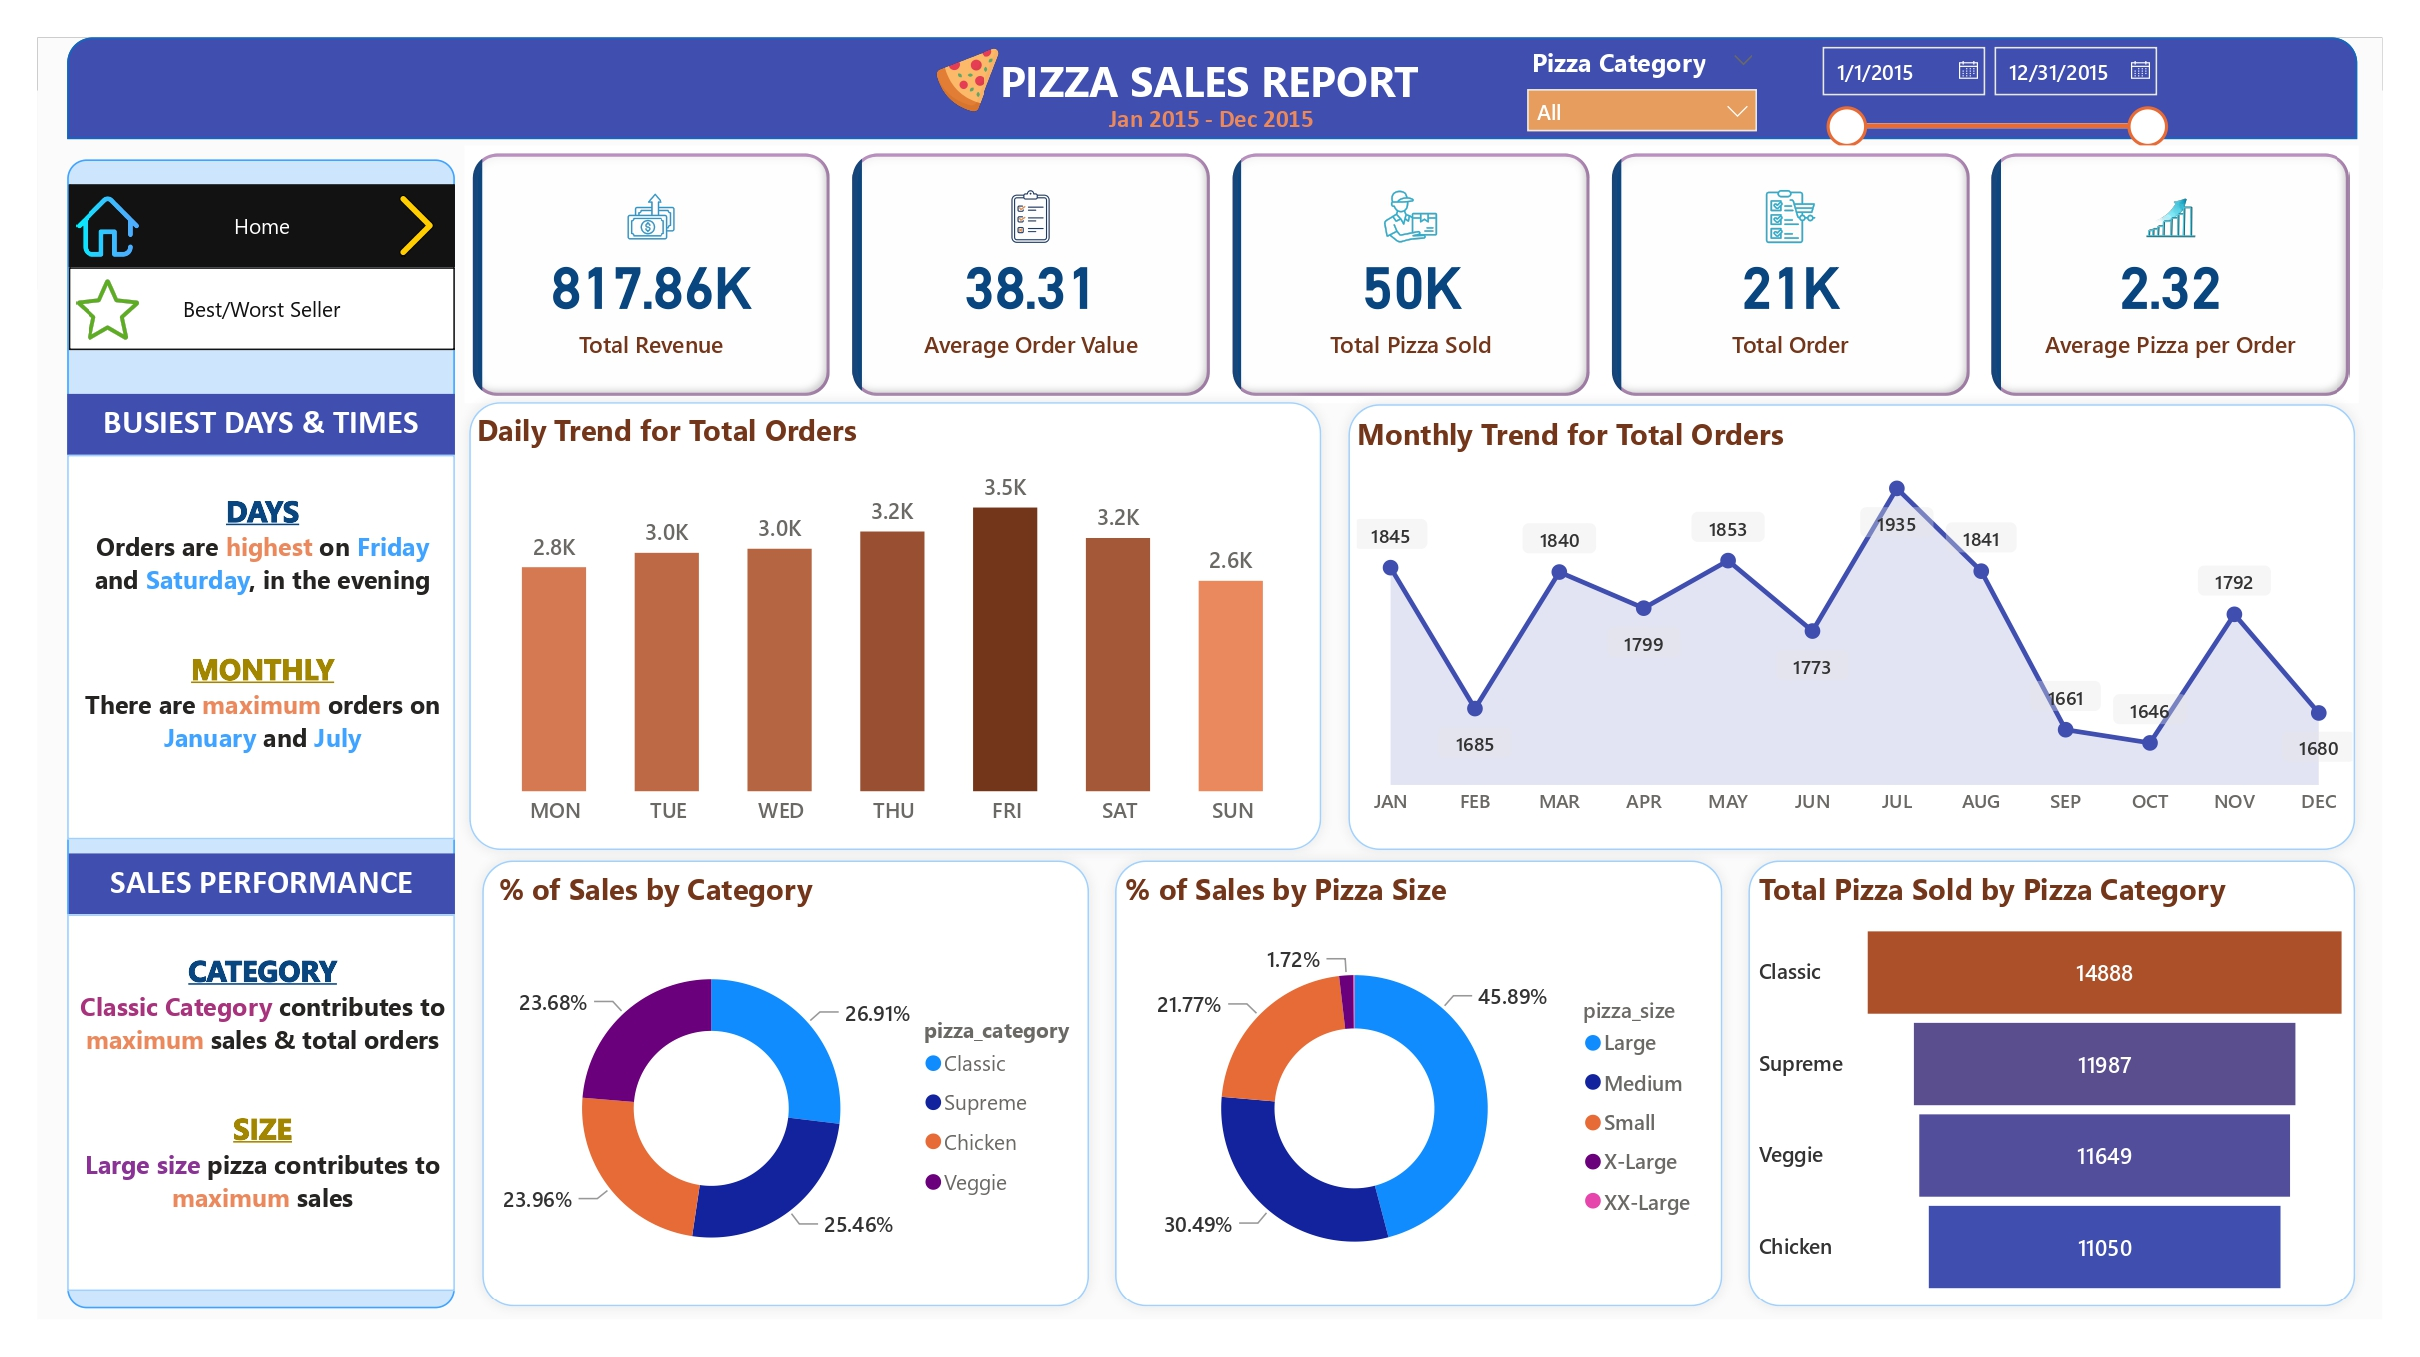

This screenshot's page, from the dashboard's own definition file:
{"tool":"powerbi","page":{"name":"Home","canvas":[1500,820],"ordinal":0},"visuals":[{"type":"cardVisual","fields":{"Data":["pizza_sales.Total Revenue","pizza_sales.Average Order Value","pizza_sales.Total Pizza Sold","pizza_sales.Total Order","pizza_sales.Average Pizza per Order"]},"box":[272.5,68.8,1212.5,165],"z":0},{"type":"shape","box":[19.5,0,1464.6,65.4],"z":1000},{"type":"textbox","box":[601.4,4.2,296.5,58.5],"z":2000},{"type":"textbox","box":[666.7,36.7,168.3,45],"z":3000},{"type":"image","box":[556.9,1.4,75.2,51.5],"z":4000},{"type":"shape","box":[267.5,225,561.2,302.5],"z":5000},{"type":"columnChart","title":"Daily Trend for Total Orders","fields":{"Category":["pizza_sales.Order Day"],"Y":["pizza_sales.Total Order"]},"box":[276.2,237.5,543.8,276.2],"z":6000},{"type":"shape","box":[830,225.6,661.1,302.2],"z":7000},{"type":"shape","box":[19.5,78,247.8,735.1],"z":8000},{"type":"areaChart","title":"Monthly Trend for Total Orders","fields":{"Category":["pizza_sales.Order Month"],"Y":["pizza_sales.Total Order"]},"box":[838.9,241.1,647.4,265.9],"z":9000},{"type":"shape","box":[275.7,517.9,405.1,302.1],"z":10000},{"type":"donutChart","title":"% of Sales by Category","fields":{"Y":["pizza_sales.Total Revenue"],"Category":["pizza_sales.pizza_category"]},"box":[289.6,531.8,391.2,281.2],"z":11000},{"type":"shape","box":[680.8,517.9,405.1,302.1],"z":12000},{"type":"shape","box":[1085.9,517.9,405.1,302.1],"z":13000},{"type":"donutChart","title":"% of Sales by Pizza Size","fields":{"Category":["pizza_sales.pizza_size"],"Y":["pizza_sales.Total Revenue"]},"box":[690.5,531.8,385.6,281.2],"z":14000},{"type":"funnel","title":"Total Pizza Sold by Pizza Category","fields":{"Y":["pizza_sales.Total Pizza Sold"],"Category":["pizza_sales.pizza_category"]},"box":[1095.7,531.8,388.4,281.2],"z":15000},{"type":"textbox","box":[19.5,227.6,247.8,39],"z":16000},{"type":"textbox","box":[19.5,266.6,247.8,246.4],"z":17000},{"type":"textbox","box":[20,521.8,247.3,39.1],"z":18000},{"type":"textbox","box":[19.1,560.9,248.2,240.9],"z":19000},{"type":"slicer","title":"Pizza Category","fields":{"Values":["pizza_sales.pizza_category"]},"box":[942.9,0,167.1,61.4],"z":20000},{"type":"slicer","title":"Pizza Category","fields":{"Values":["pizza_sales.order_date"]},"box":[1128.6,0,242.9,68.6],"z":21000},{"type":"pageNavigator","box":[20,94.3,247.1,52.9],"z":22000},{"type":"pageNavigator","box":[20,146.8,247.4,53.2],"z":23000},{"type":"image","box":[217.6,94.1,49.4,52.9],"z":24000},{"type":"image","box":[20,94.6,50,52.3],"z":25000},{"type":"image","box":[20,147.7,50,52.3],"z":26000}]}

Visuals, with their boxes in screenshot pixels (x1, y1, x2, y2):
cardVisual - pizza_sales.Total Revenue x pizza_sales.Average Order Value: (464, 145, 2359, 403)
shape: (68, 38, 2358, 140)
textbox: (978, 44, 1441, 136)
textbox: (1080, 95, 1343, 165)
image: (908, 40, 1026, 120)
shape: (456, 389, 1333, 862)
"Daily Trend for Total Orders" columnChart: (469, 409, 1319, 841)
shape: (1335, 390, 2369, 863)
shape: (68, 159, 455, 1309)
"Monthly Trend for Total Orders" areaChart: (1349, 414, 2361, 830)
shape: (469, 847, 1102, 1319)
"% of Sales by Category" donutChart: (490, 869, 1102, 1309)
shape: (1102, 847, 1735, 1319)
shape: (1735, 847, 2368, 1319)
"% of Sales by Pizza Size" donutChart: (1117, 869, 1720, 1309)
"Total Pizza Sold by Pizza Category" funnel: (1750, 869, 2358, 1309)
textbox: (68, 393, 455, 454)
textbox: (68, 454, 455, 840)
textbox: (69, 853, 455, 914)
textbox: (67, 914, 455, 1291)
"Pizza Category" slicer: (1512, 38, 1773, 134)
"Pizza Category" slicer: (1802, 38, 2182, 145)
pageNavigator: (69, 185, 455, 268)
pageNavigator: (69, 267, 456, 350)
image: (378, 185, 455, 267)
image: (69, 185, 147, 267)
image: (69, 268, 147, 350)
